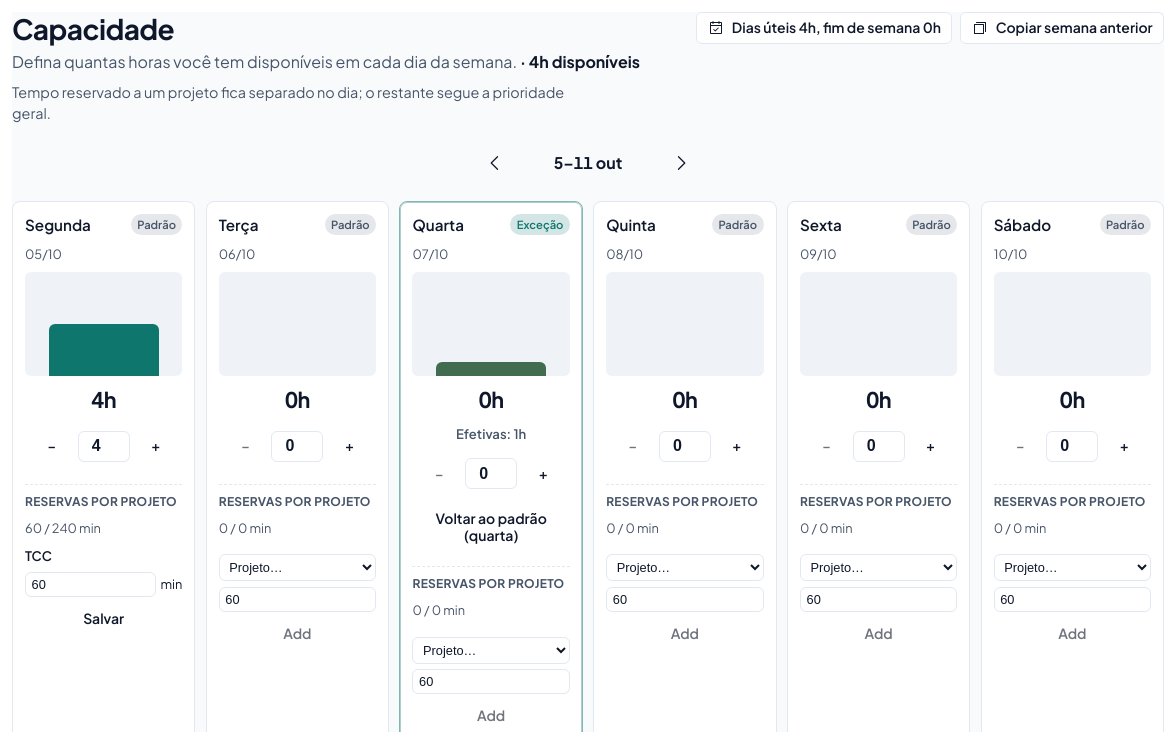
Test: CapacidadePage › T1: stepper + em segunda soma 1h e mostra barra 1 dia alterado
Click the button named "aumentar horas de segunda" at [156, 446], box [134,424,178,468]
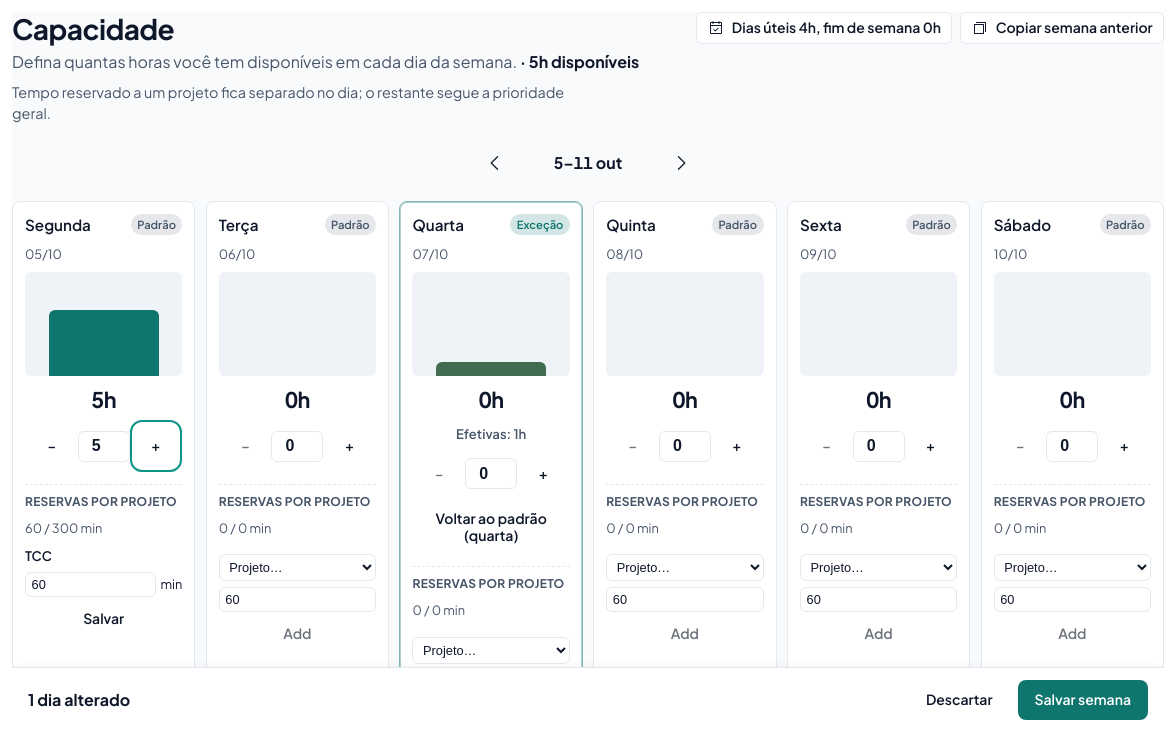
expect the text "1 dia alterado" is shown: met, box [28,688,130,712]
expect the button "Salvar semana" is shown: met, box [1018,680,1148,720]
